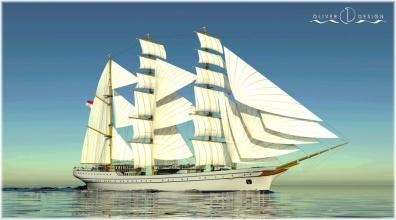fanchuan: (71, 21, 352, 194)
